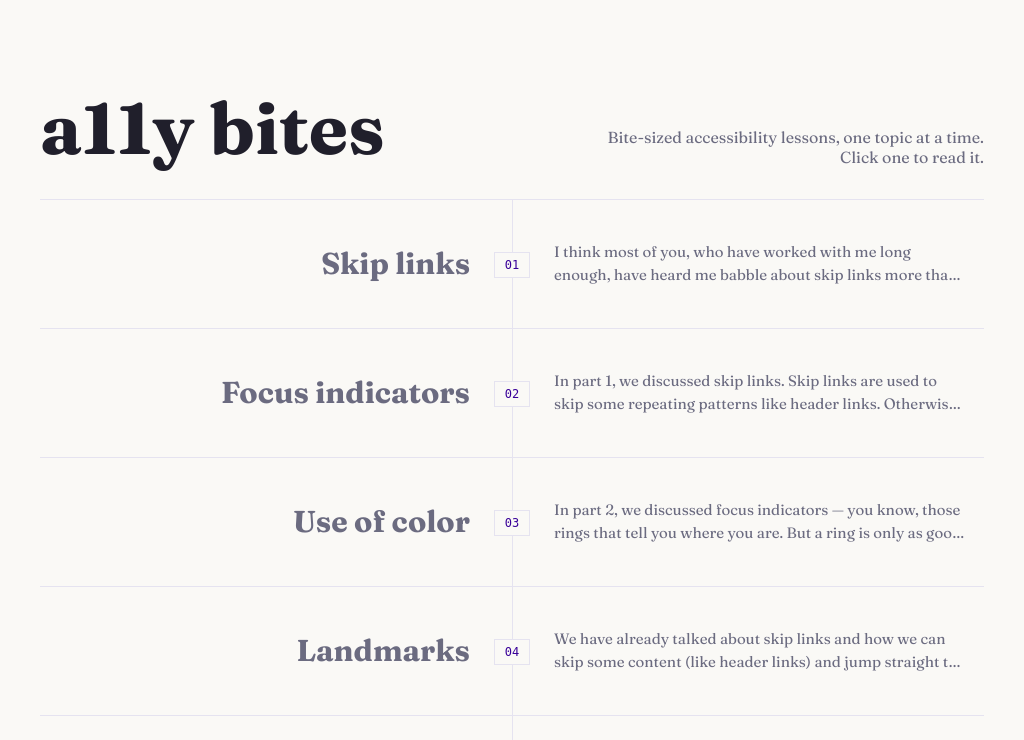
Test: A11yBites › keeps only one bite open at a time
The width and height of the screenshot is (1024, 740).
Click the button "Skip links".
click(396, 264)  # box [321,246,470,282]
(page scrolled)
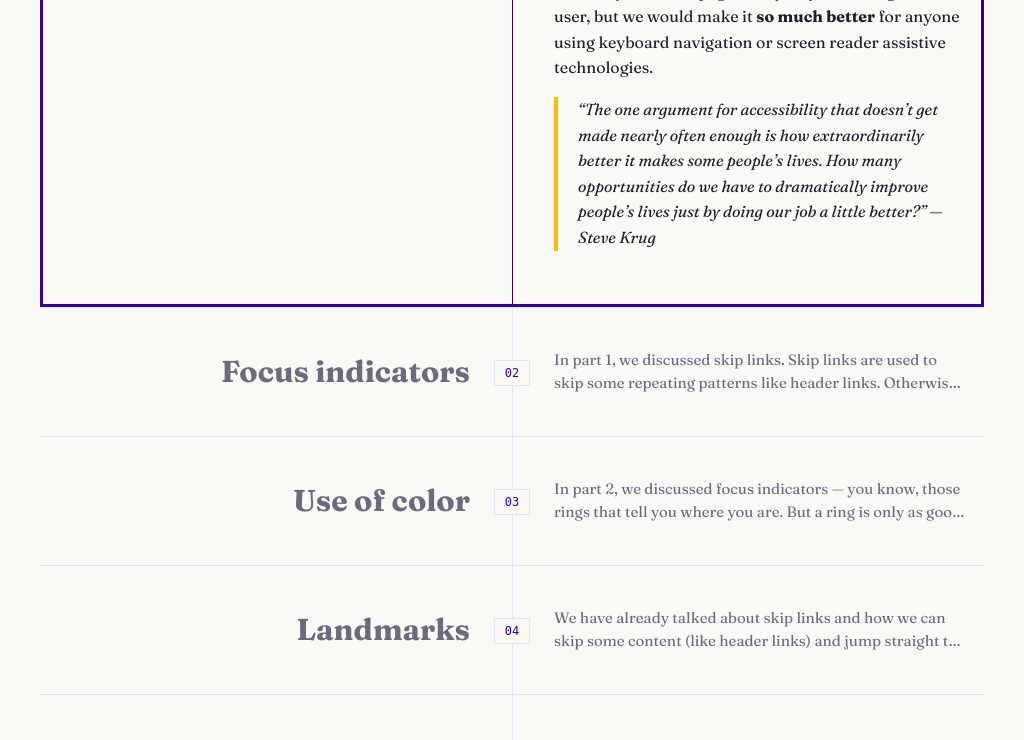
Click the button "Focus indicators".
click(346, 372)  # box [221,353,470,390]
(page scrolled)
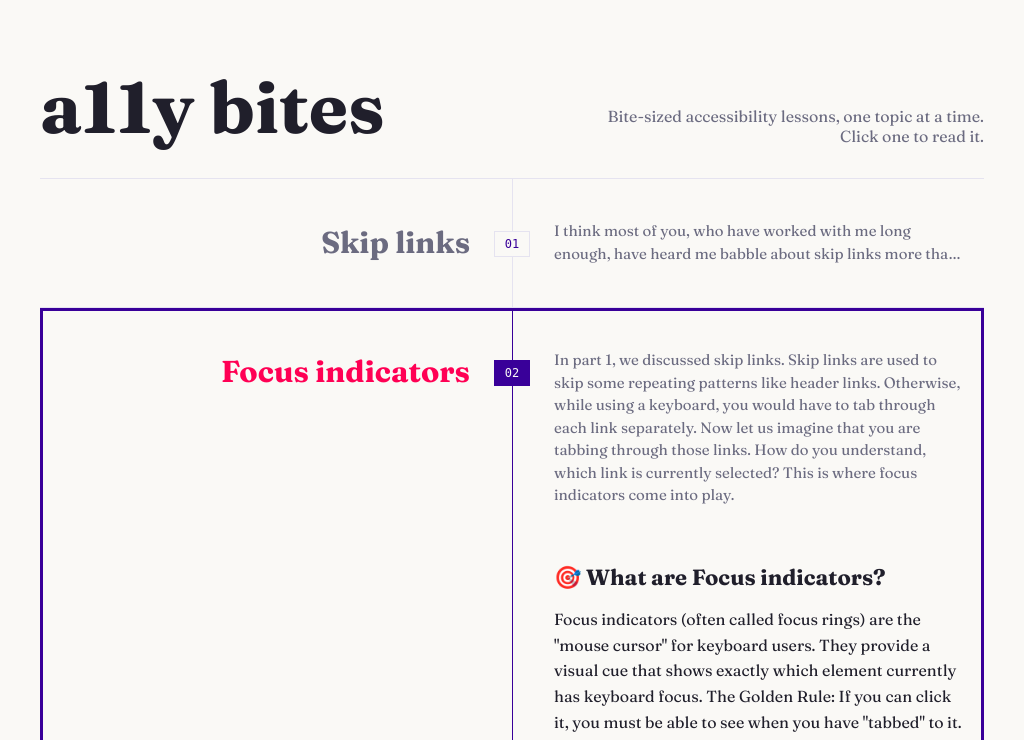
Check: the button "Skip links" is collapsed, box [321,224,470,261]
Check: the button "Focus indicators" is expanded, box [221,354,470,390]
